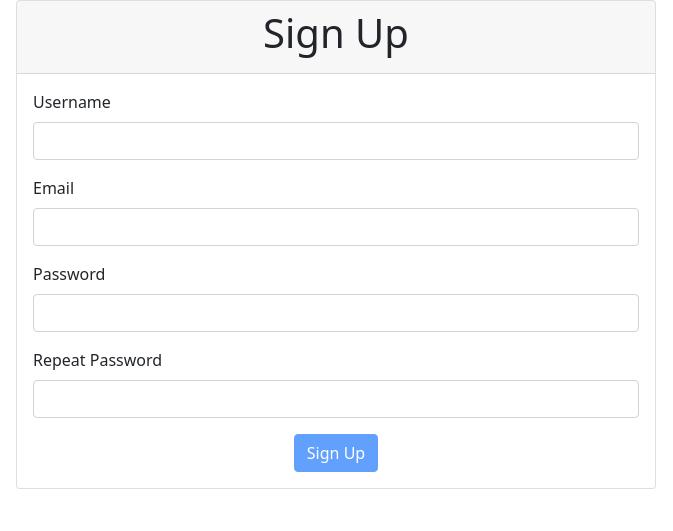
it: The signup page › Interactions › displays Password cannot be null for password
Type "user1" into the field labelled "Username" at (336, 141), box [33,122,639,160]
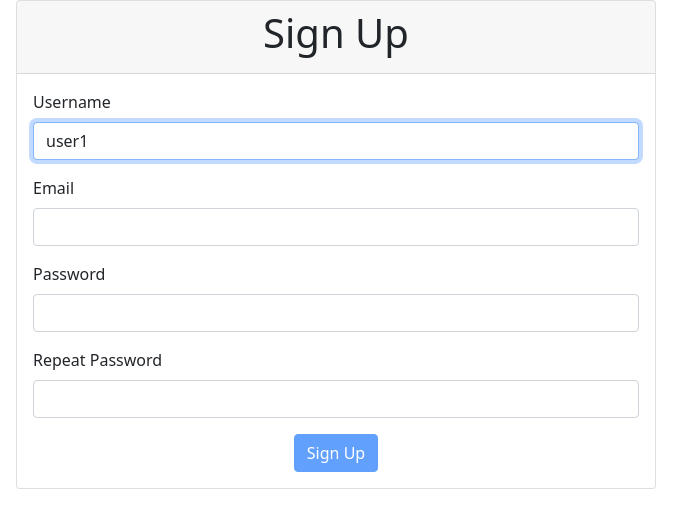
Type "user1@mail.com" into the field labelled "Email" at (336, 227), box [33,208,639,246]
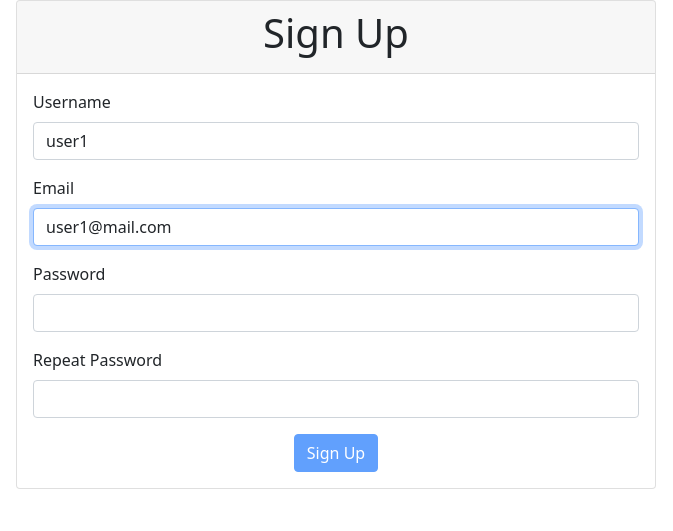
Type "P4ssword" into the password field labelled "Password" at (336, 313), box [33,294,639,332]
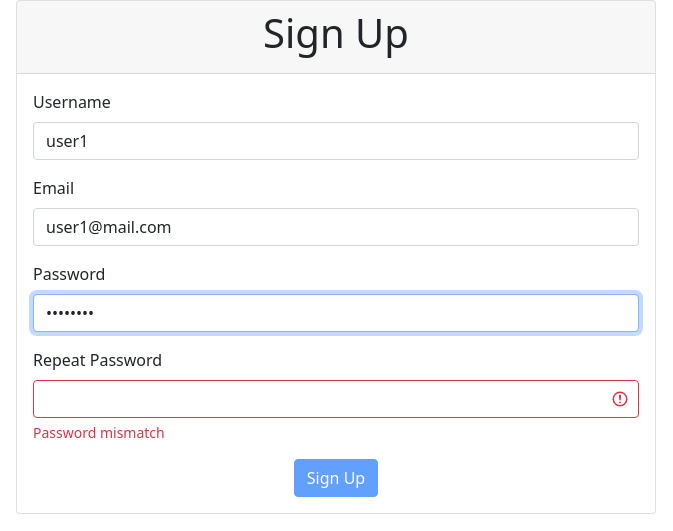
Type "P4ssword" into the password field labelled "Repeat Password" at (336, 399), box [33,380,639,418]
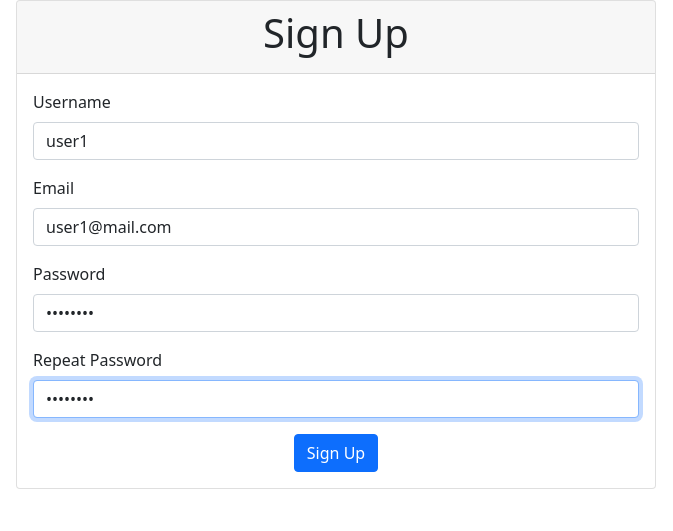
Click the button "Sign Up" at (336, 453), box [294,434,378,472]
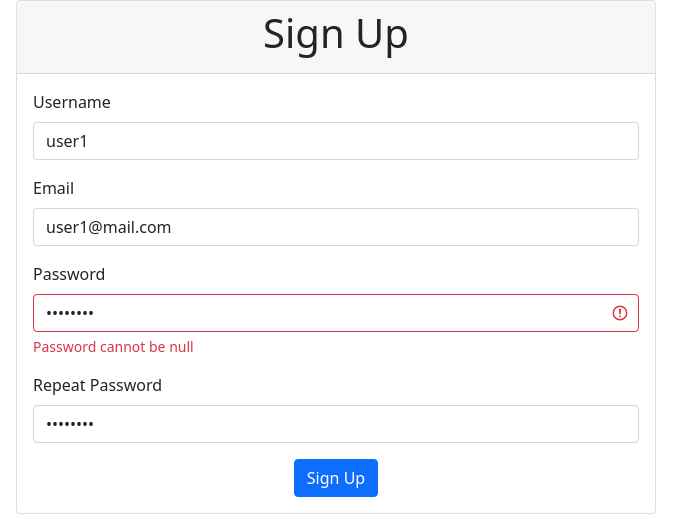
Result: the text "Password cannot be null" is shown at [33,337,194,356]
